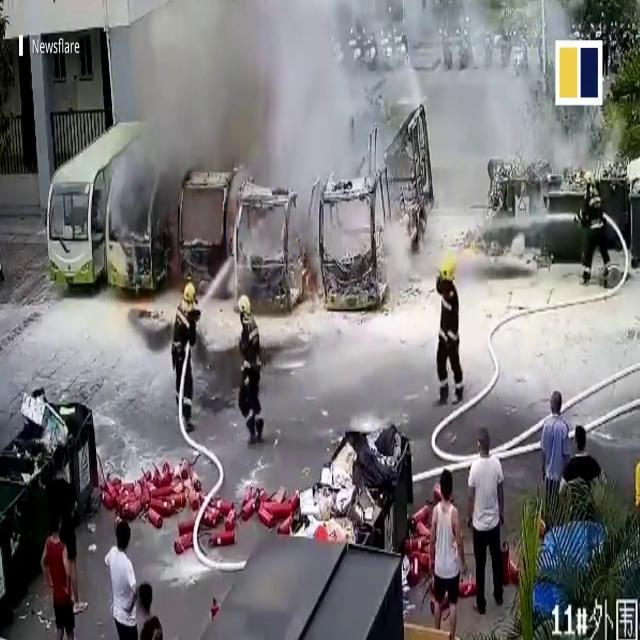Smoke: (111, 0, 365, 215)
